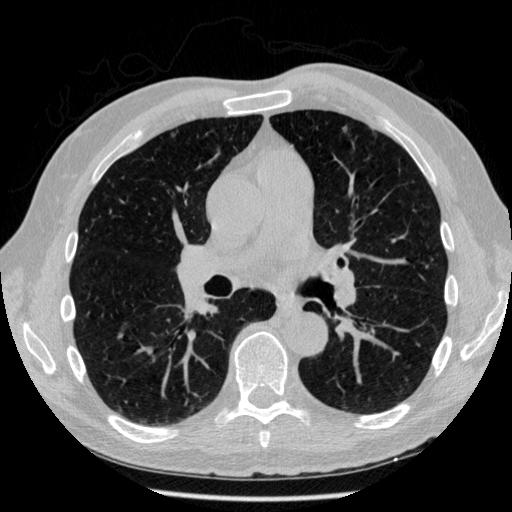nodule: (340, 124, 349, 133)
